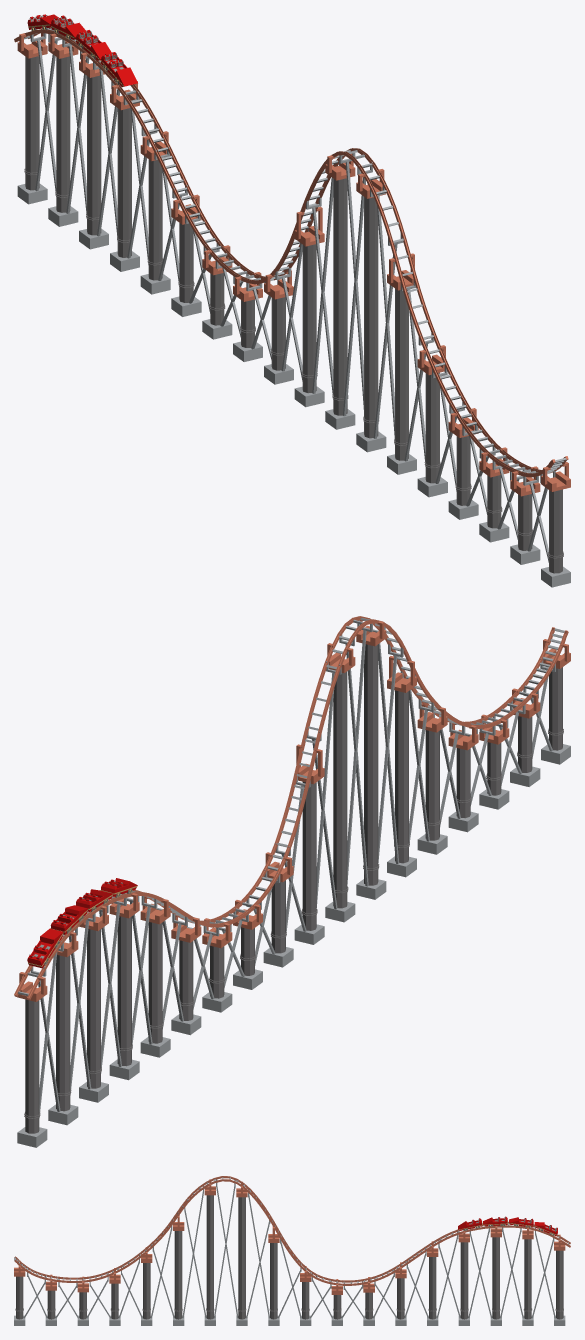
Rendered from roller_coaster.fbx.
3 renders of one model, top to bottom at view 1: azimuth 30°, elevation 25°; view 2: azimuth 150°, elevation 25°; view 3: azimuth 270°, elevation 25°, orthographic. The views are drawn at different scales.
Visible parts, largest first — view 1: polySurface3, polySurface94, polySurface92, group12_pCube68; view 2: polySurface3, polySurface94, polySurface92, group12_pCube68; view 3: polySurface3, polySurface94, polySurface92, group12_pCube68.
Part boxes in pixels (x1,y1,x2,y2): polySurface3: (24, 56, 563, 573); polySurface94: (17, 28, 570, 587); polySurface92: (14, 28, 570, 496); group12_pCube68: (27, 14, 137, 86); polySurface3: (24, 644, 563, 1133); polySurface94: (17, 618, 570, 1147); polySurface92: (14, 616, 570, 1001); group12_pCube68: (27, 878, 137, 968); polySurface3: (15, 1195, 563, 1319); polySurface94: (14, 1177, 568, 1325); polySurface92: (14, 1176, 570, 1294); group12_pCube68: (458, 1216, 557, 1235).
Size of the model in its own units: 4.67 by 180 by 51.96.
